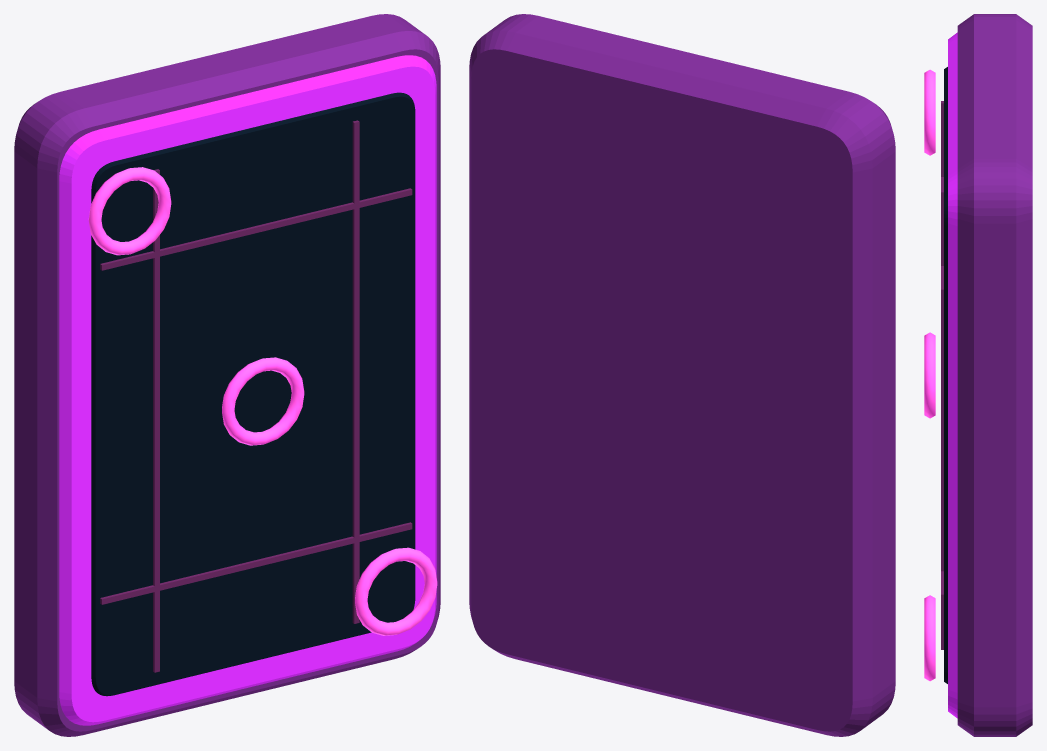
The model's file is board-o-low.glb.
3 renders of one model, left to right at view 1: azimuth 30°, elevation 25°; view 2: azimuth 150°, elevation 25°; view 3: azimuth 270°, elevation 25°, orthographic. The views are drawn at different scales.
Parts seen in each view (by area): view 1: Inset dark game surface, Rounded rectangular beveled backplate, Raised neon perimeter, Vertical grid divider 2, Vertical grid divider 1, Raised Neon O mark 1, Raised Neon O mark 2, Raised Neon O mark 3, Horizontal grid divider 2, Horizontal grid divider 1; view 2: Rounded rectangular beveled backplate; view 3: Rounded rectangular beveled backplate, Raised neon perimeter, Inset dark game surface, Vertical grid divider 2, Raised Neon O mark 2, Raised Neon O mark 1, Raised Neon O mark 3, Vertical grid divider 1.
Boxes of the visible parts, x1,y1,x2,y2 form: Inset dark game surface: (91, 92, 415, 696); Rounded rectangular beveled backplate: (14, 14, 440, 736); Raised neon perimeter: (59, 55, 436, 725); Vertical grid divider 2: (352, 120, 359, 623); Vertical grid divider 1: (153, 169, 159, 672); Raised Neon O mark 1: (88, 167, 171, 255); Raised Neon O mark 2: (222, 357, 304, 445); Raised Neon O mark 3: (355, 547, 437, 635); Horizontal grid divider 2: (100, 522, 412, 604); Horizontal grid divider 1: (100, 188, 412, 270); Rounded rectangular beveled backplate: (469, 14, 895, 736); Rounded rectangular beveled backplate: (957, 14, 1032, 736); Raised neon perimeter: (948, 32, 957, 718); Inset dark game surface: (944, 67, 947, 683); Vertical grid divider 2: (941, 190, 943, 649); Raised Neon O mark 2: (924, 332, 935, 418); Raised Neon O mark 1: (924, 69, 935, 155); Raised Neon O mark 3: (924, 595, 935, 681); Vertical grid divider 1: (941, 101, 943, 176).
Size of the model in its own units: 0.91 by 1.35 by 0.2311.
